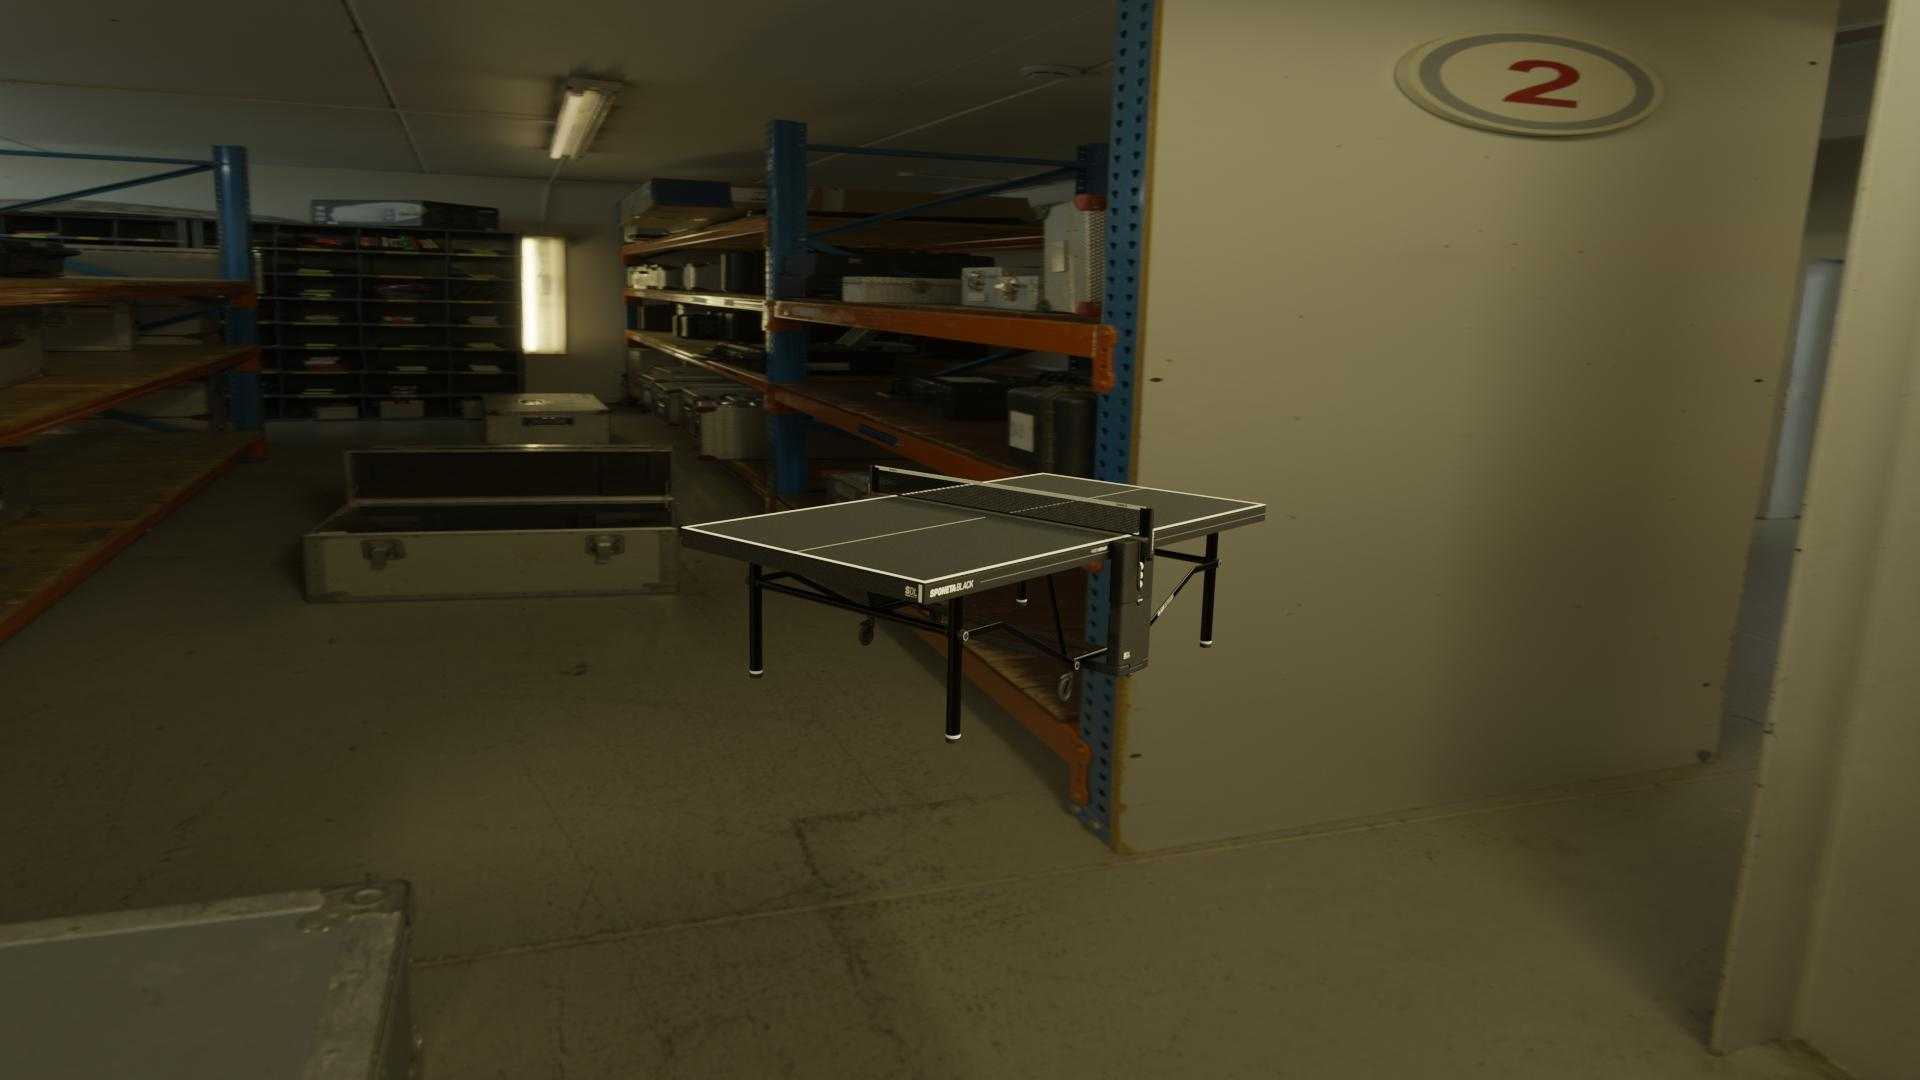table: (687, 473, 1261, 582)
